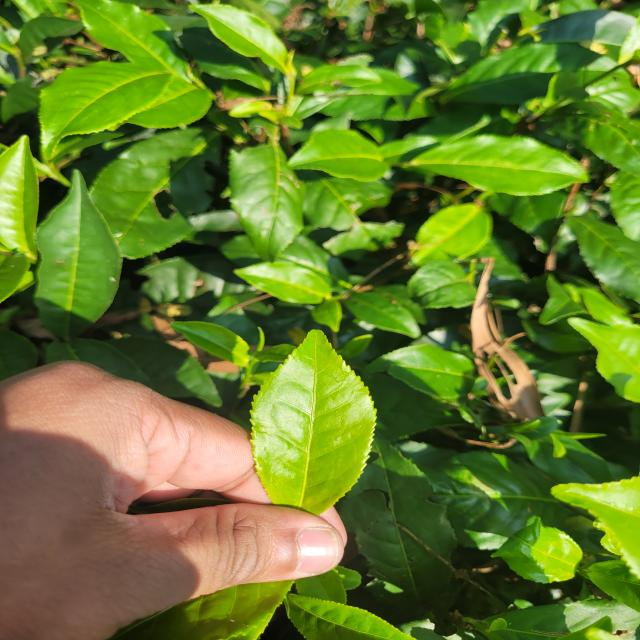Catagory A(1-2 days): (244, 319, 390, 516)
